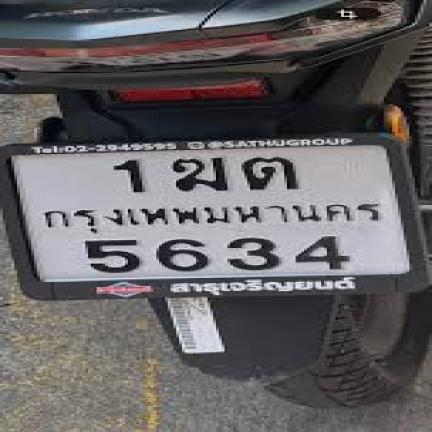1: (108, 158, 154, 194)
3: (218, 235, 284, 272)
4: (288, 234, 358, 270)
5: (83, 238, 144, 275)
6: (151, 238, 213, 273)
A06: (163, 157, 231, 192)
A21: (236, 156, 304, 191)
BKK: (36, 200, 391, 238)
